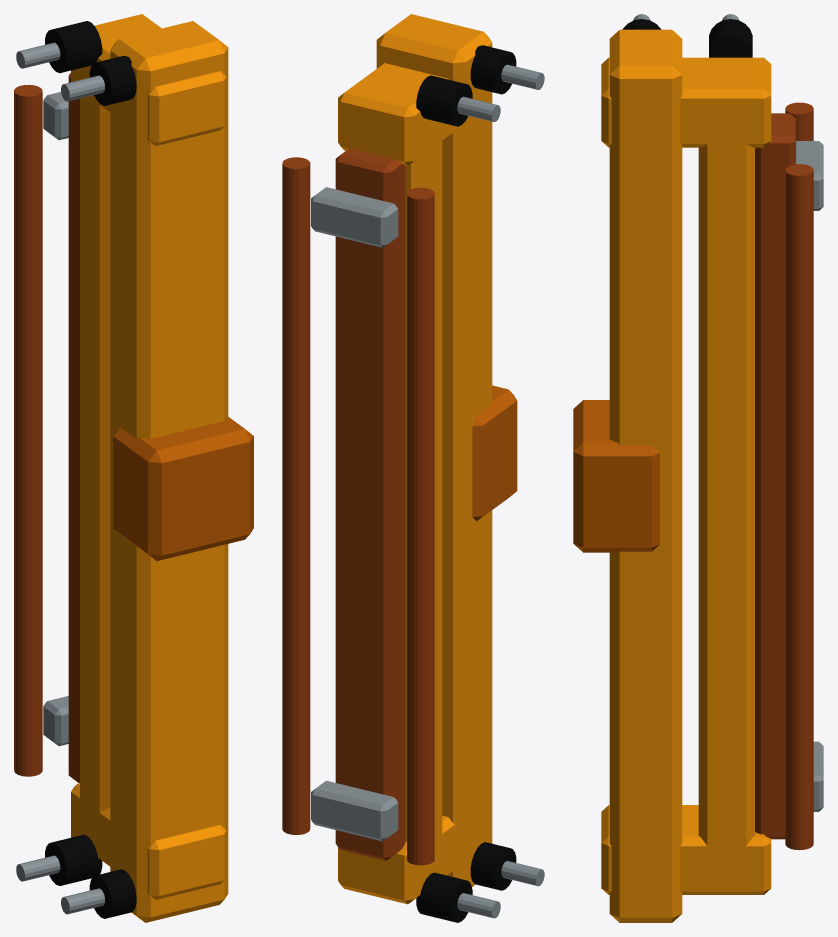
Rendered from plate_rack.obj.
The picture shows the model from 3 angles, left to right: view 1: azimuth 30°, elevation 25°; view 2: azimuth 150°, elevation 25°; view 3: azimuth 270°, elevation 25°; orthographic projection. The views are drawn at different scales.
Size of the model in its own units: 0.515 by 2.34 by 0.62.
